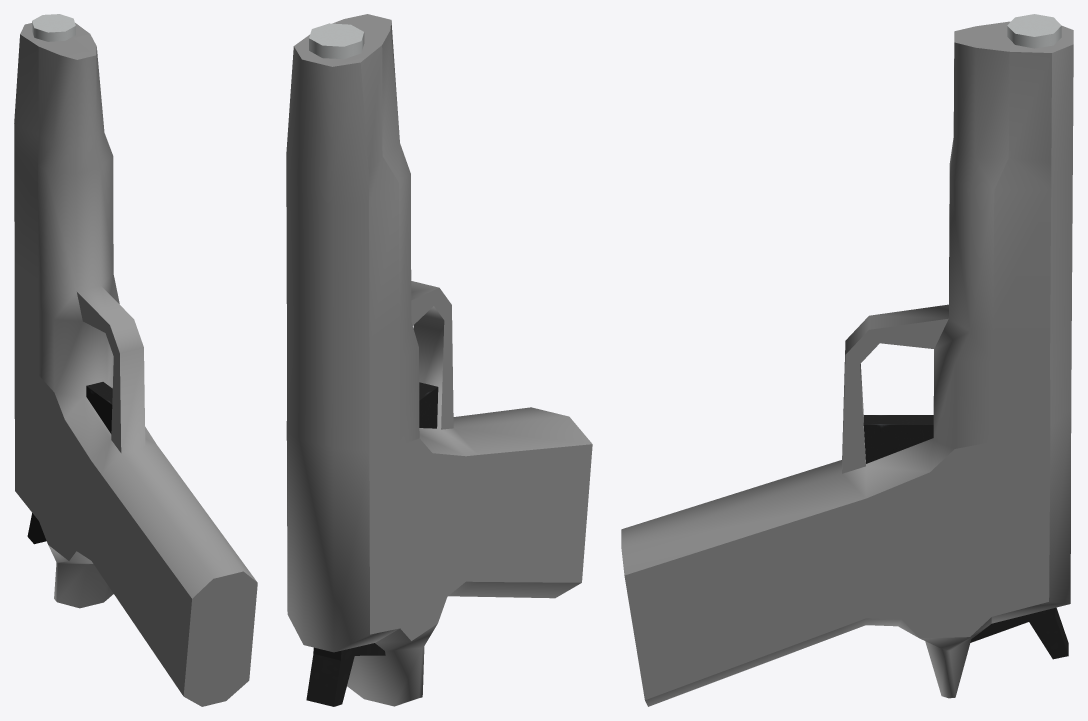
3 views of the same model, side by side, from view 1: azimuth 30°, elevation 25°; view 2: azimuth 150°, elevation 25°; view 3: azimuth 270°, elevation 25° (orthographic). The views are drawn at different scales.
Visible parts, largest first — view 1: Box002; view 2: Box002; view 3: Box002.
Part boxes in pixels (x1,y1,x2,y2): Box002: (14,14,257,706); Box002: (286,14,592,706); Box002: (621,14,1073,706).
Size of the model in its own units: 268 by 2190 by 1330.
2 materials, 1 textured.
